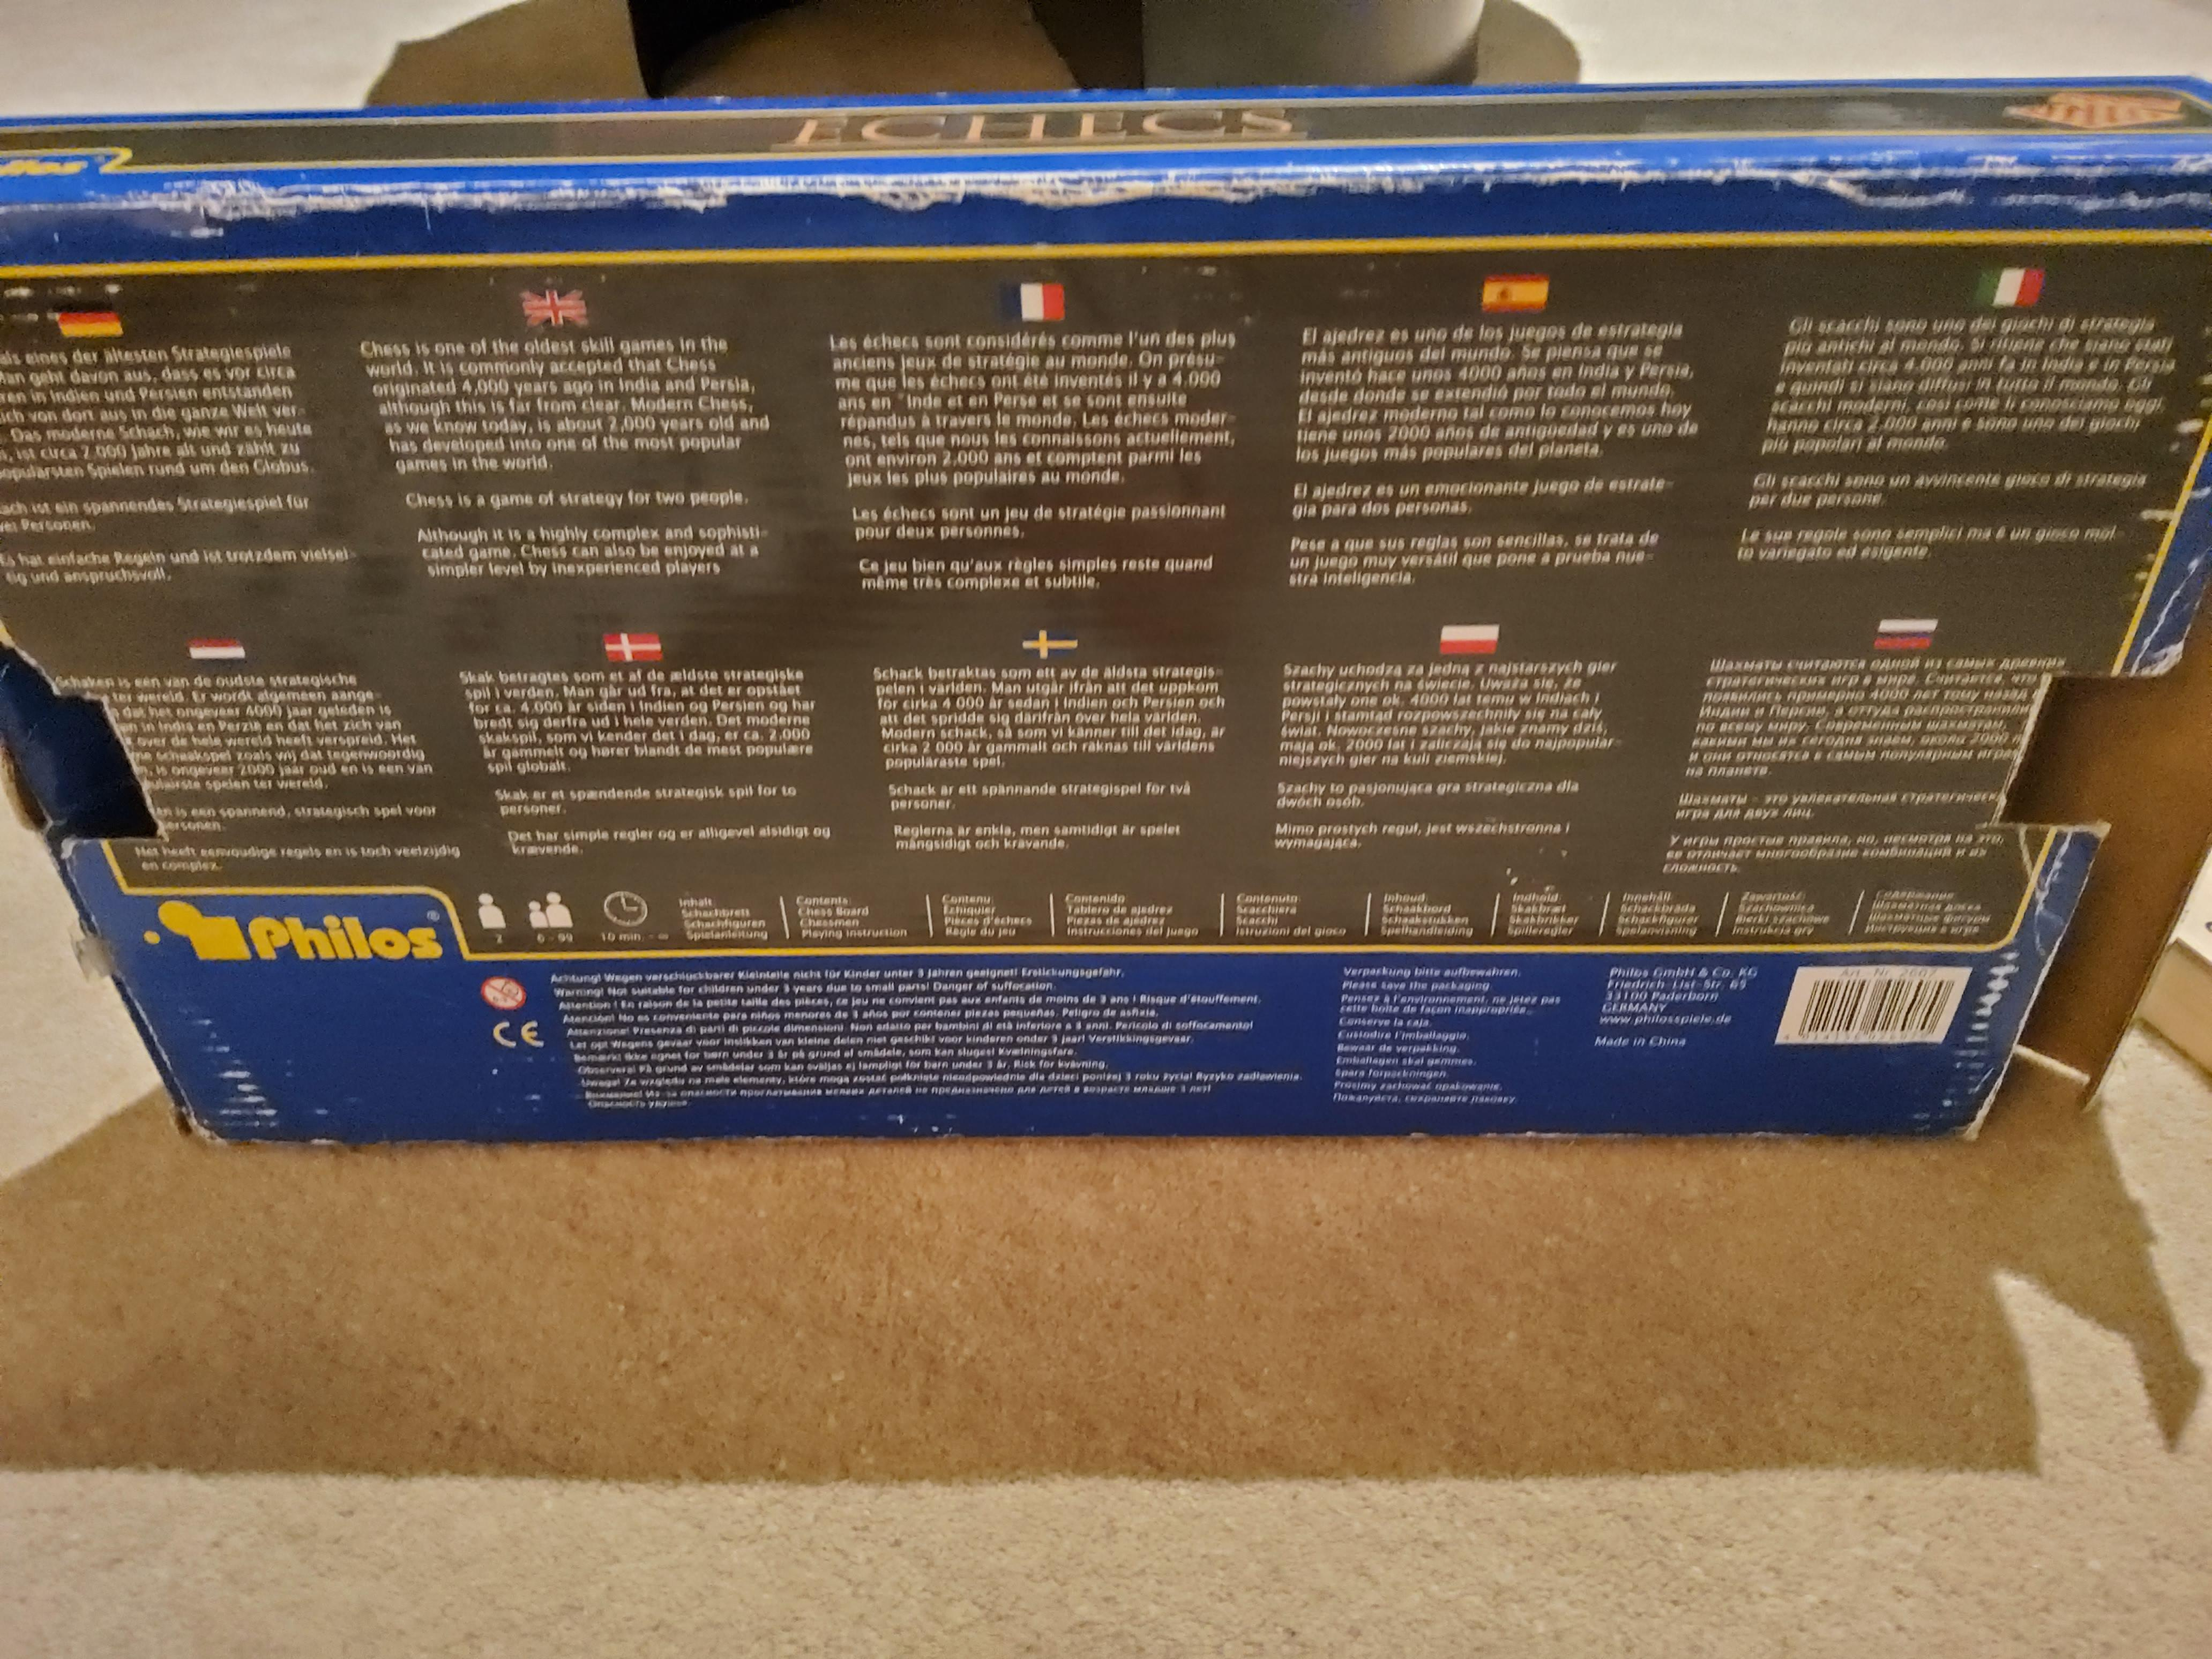schaak: (0, 59, 2212, 1122)
